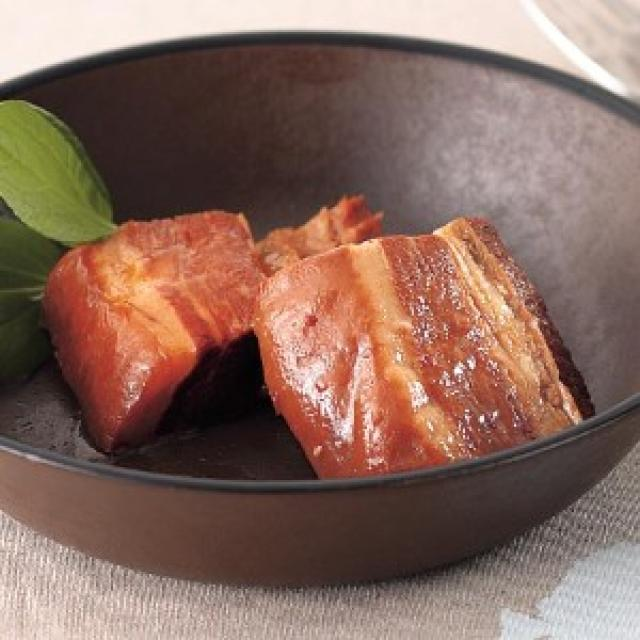猪肉菜式: (0, 21, 640, 640)
